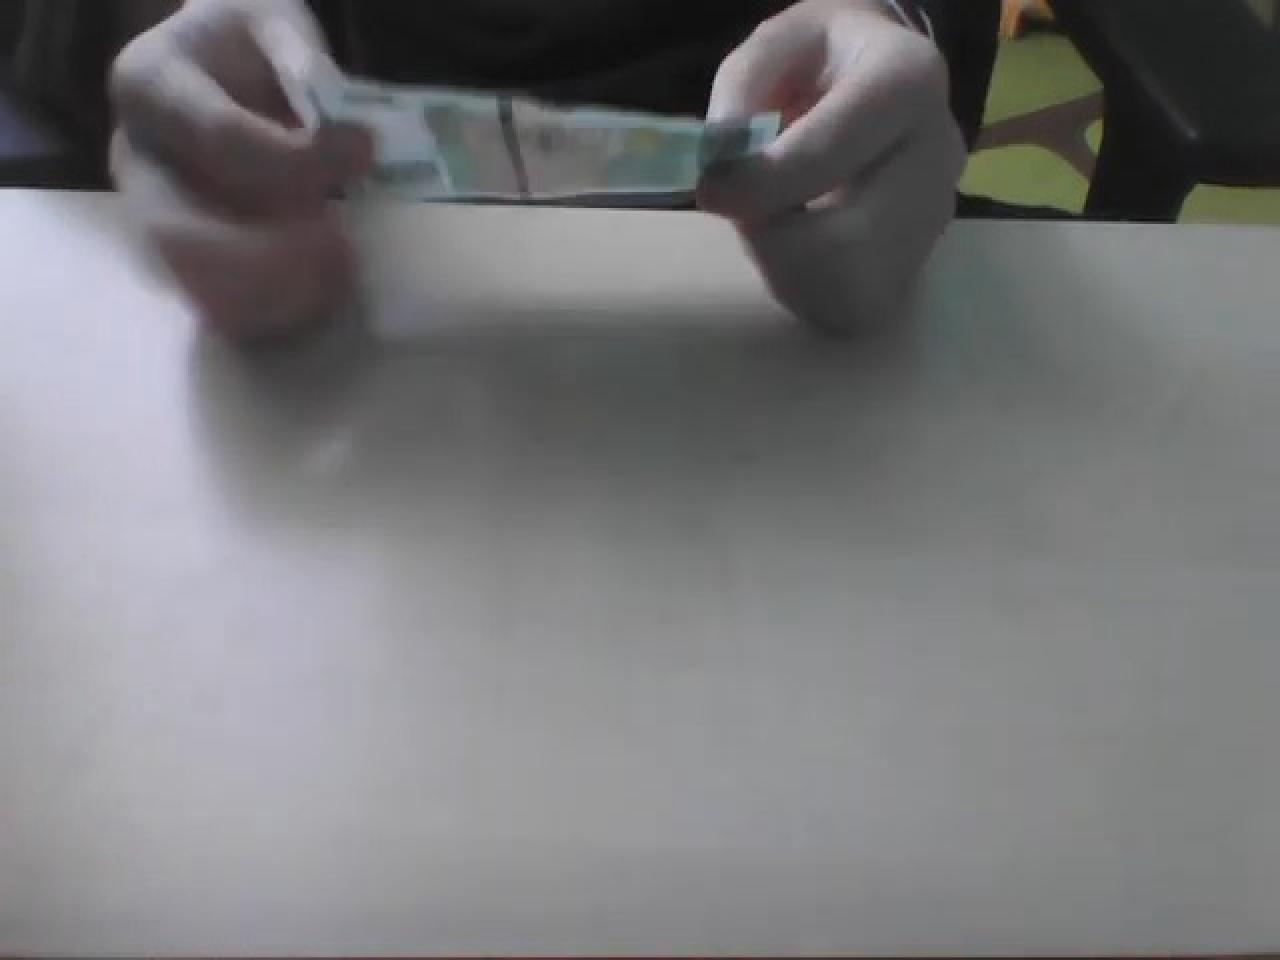100leva: (300, 70, 784, 211)
